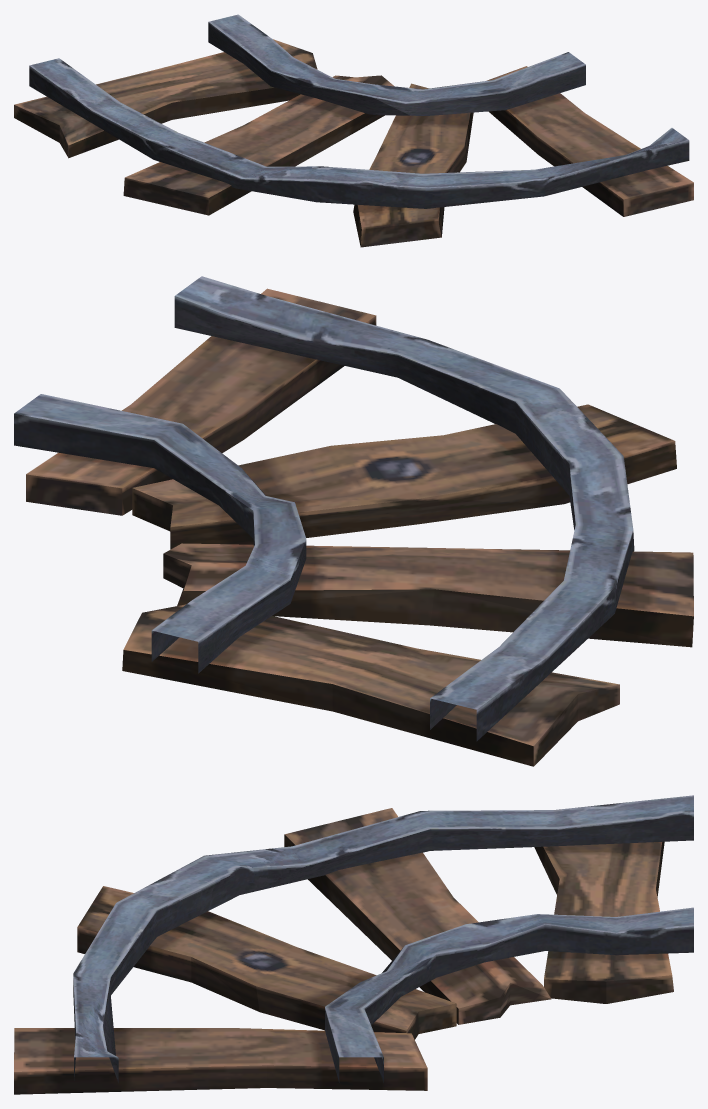
Rendered from mine_track_corner.fbx.
3 renders of one model, top to bottom at view 1: azimuth 30°, elevation 25°; view 2: azimuth 150°, elevation 25°; view 3: azimuth 270°, elevation 25°, orthographic. The views are drawn at different scales.
Parts seen in each view (by area): view 1: mine_rails/mine_rails01; view 2: mine_rails/mine_rails01; view 3: mine_rails/mine_rails01.
Part boxes in pixels (x1,y1,x2,y2): mine_rails/mine_rails01: (14, 14, 693, 247); mine_rails/mine_rails01: (14, 276, 693, 766); mine_rails/mine_rails01: (14, 795, 693, 1094).
Size of the model in its own units: 2.84 by 0.2672 by 2.92.
